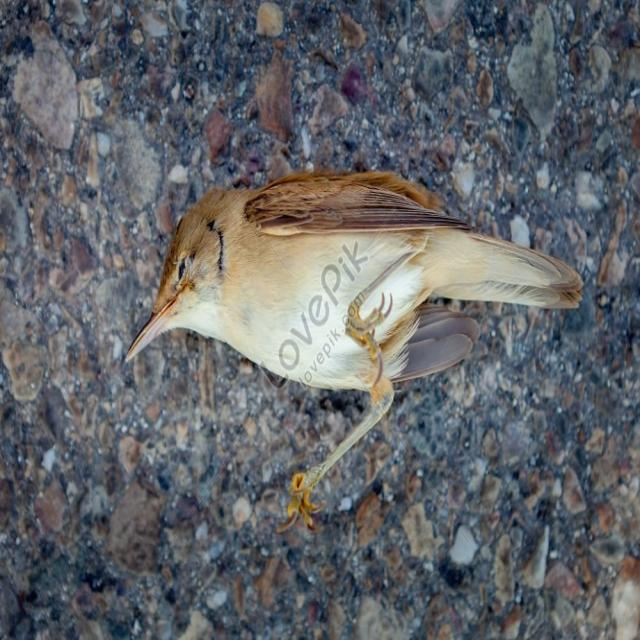Bangkai Burung: (143, 139, 605, 515)
